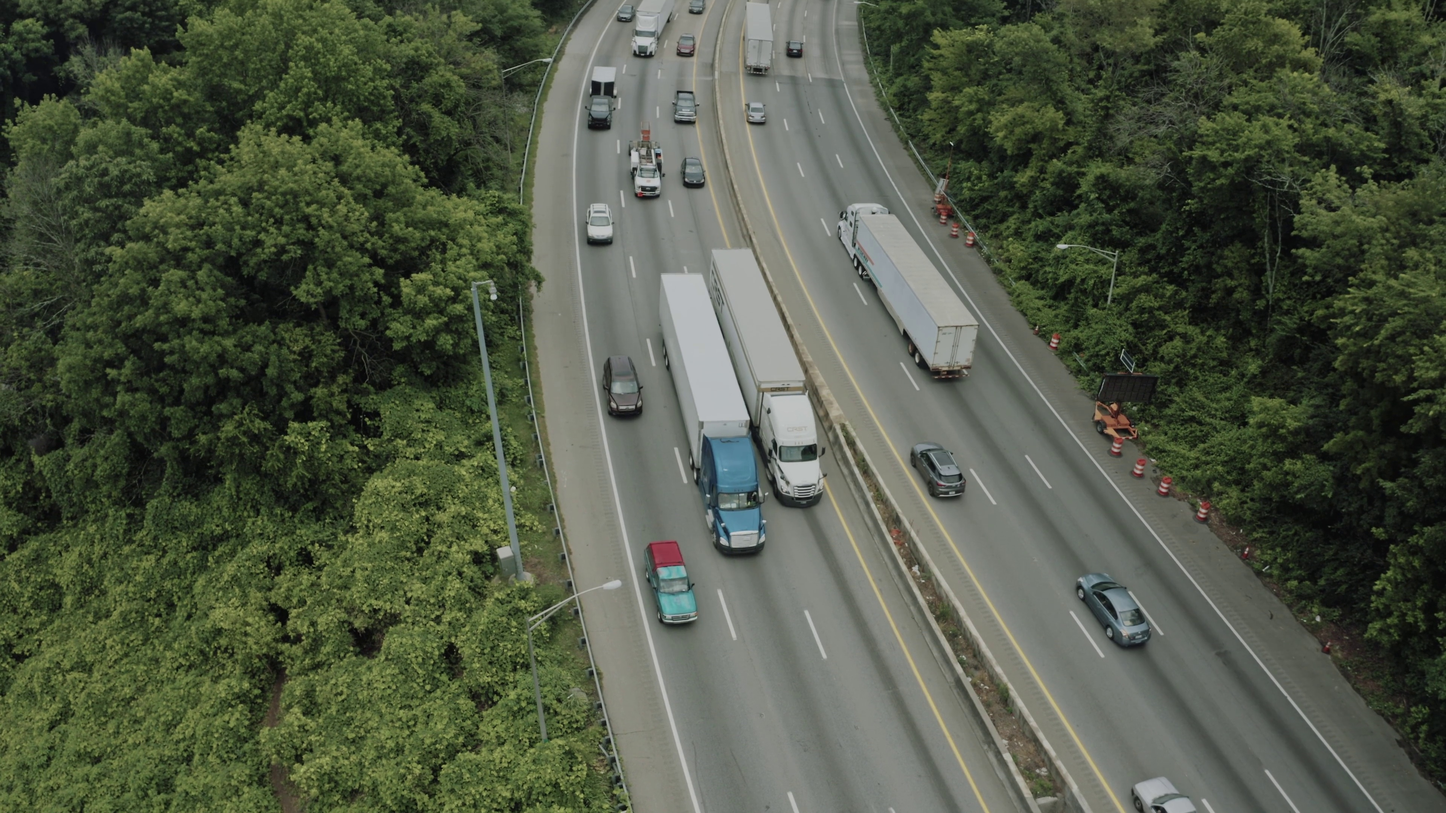Vehicle: (698, 429, 760, 557), (763, 387, 827, 508), (1075, 572, 1156, 651), (642, 537, 699, 625), (837, 203, 899, 276), (910, 441, 966, 498), (602, 355, 643, 421), (1130, 776, 1197, 813), (629, 140, 664, 198), (631, 14, 662, 57), (585, 203, 615, 244), (585, 95, 615, 130), (672, 91, 699, 124), (680, 157, 705, 188), (676, 33, 696, 57), (744, 102, 766, 123), (617, 5, 636, 22), (786, 40, 803, 57), (688, 0, 706, 14)
